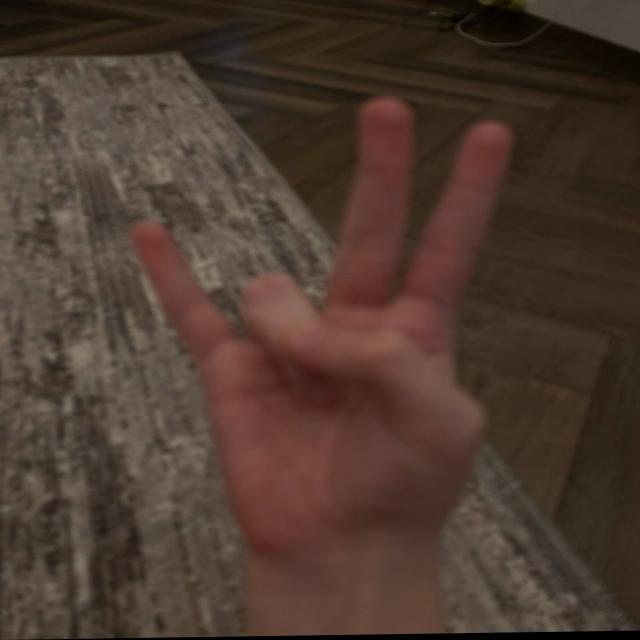n: (102, 107, 531, 534)
